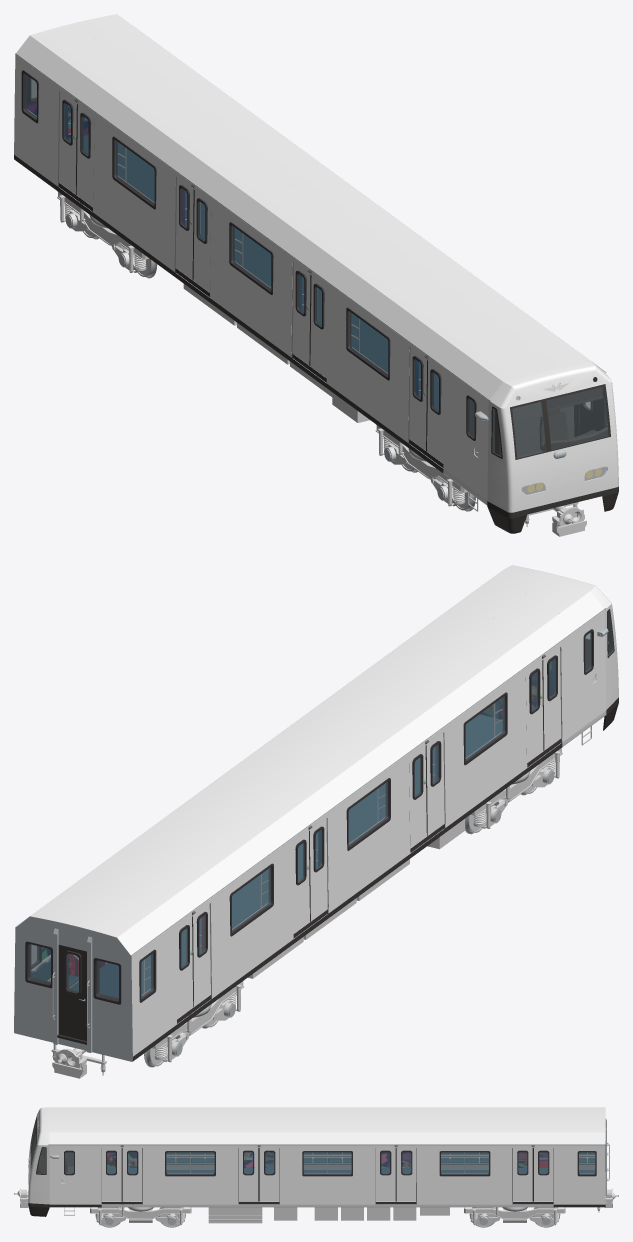
The model's file is car-1.glb.
3 views of the same model, one above another, from view 1: azimuth 30°, elevation 25°; view 2: azimuth 150°, elevation 25°; view 3: azimuth 270°, elevation 25° (orthographic). The views are drawn at different scales.
Parts seen in each view (by area): view 1: Mesh573, Mesh572, Mesh574, Mesh561, Mesh311, Mesh281, Mesh368, Mesh571, Mesh431, Mesh204, Mesh403, Mesh568 (+22 smaller); view 2: Mesh573, Mesh572, Mesh574, Mesh204, Mesh311, Mesh368, Mesh281, Mesh571, Mesh147, Mesh431, Mesh403, Mesh418 (+23 smaller); view 3: Mesh575, Mesh572, Mesh573, Mesh469.001, Mesh499, Mesh529, Mesh444, Mesh147, Mesh148, Mesh561, Cube.019, Cube.018 (+43 smaller).
Boxes of the visible parts, x1,y1,x2,y2 form: Mesh573: (30, 23, 546, 381); Mesh572: (74, 14, 589, 369); Mesh574: (15, 35, 502, 404); Mesh561: (487, 382, 618, 518); Mesh311: (326, 288, 409, 442); Mesh281: (209, 202, 292, 357); Mesh368: (93, 117, 175, 271); Mesh571: (69, 135, 438, 410); Mesh431: (443, 373, 488, 505); Mesh204: (14, 59, 59, 191); Mesh403: (58, 187, 443, 472); Mesh568: (470, 399, 574, 457); Mesh573: (74, 579, 589, 937); Mesh572: (30, 570, 546, 925); Mesh574: (117, 591, 604, 960); Mesh204: (73, 925, 176, 1061); Mesh311: (444, 672, 527, 827); Mesh368: (211, 843, 293, 998); Mesh281: (327, 758, 410, 912); Mesh571: (71, 714, 502, 997); Mesh147: (14, 916, 73, 1047); Mesh431: (561, 614, 606, 746); Mesh403: (177, 743, 562, 1028); Mesh418: (57, 945, 86, 1044); Mesh575: (49, 1132, 605, 1147); Mesh572: (49, 1119, 605, 1132); Mesh573: (49, 1107, 605, 1118); Mesh469.001: (279, 1148, 375, 1204); Mesh499: (416, 1148, 512, 1204); Mesh529: (142, 1148, 238, 1204); Mesh444: (49, 1148, 101, 1207); Mesh147: (553, 1128, 606, 1207); Mesh148: (101, 1204, 553, 1207); Mesh561: (28, 1115, 49, 1207); Cube.019: (166, 1152, 214, 1174); Cube.018: (303, 1152, 351, 1174).
Size of the model in its own units: 2.88 by 3.62 by 19.96.
60 materials, 1 textured.
